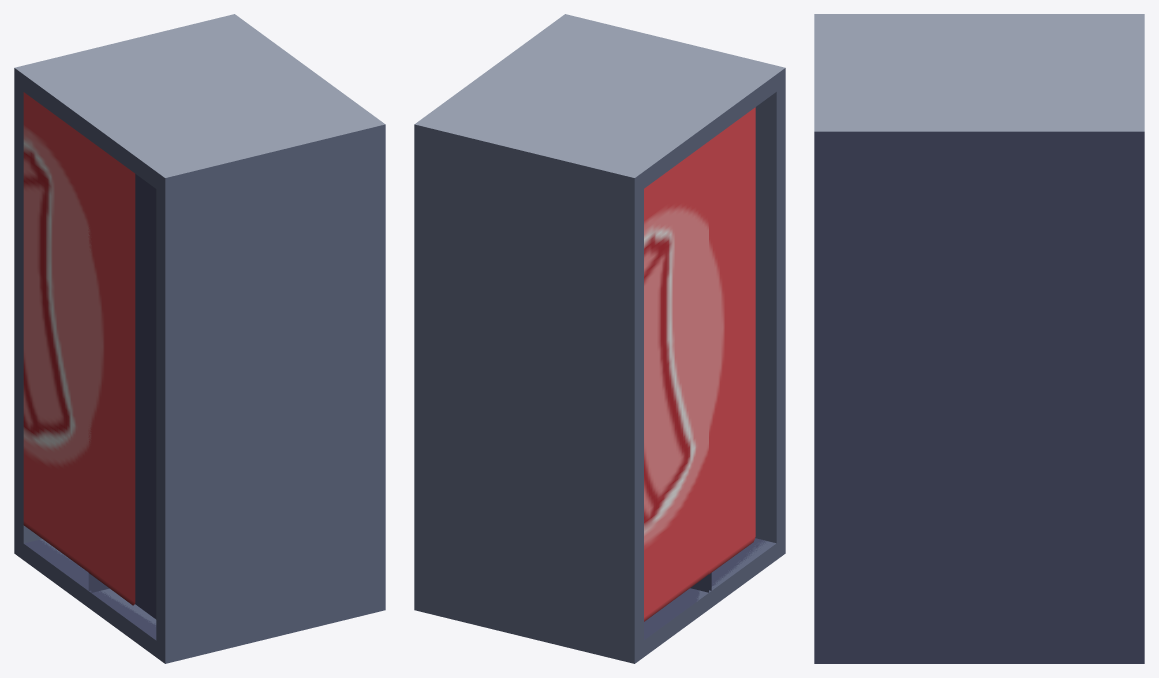
Rendered from f_cabinet.fbx.
The picture shows the model from 3 angles, left to right: view 1: azimuth 30°, elevation 25°; view 2: azimuth 150°, elevation 25°; view 3: azimuth 270°, elevation 25°; orthographic projection. The views are drawn at different scales.
Visible parts, largest first — view 1: Shelves, Shelf_door, Shelf_door.001; view 2: Shelves, Shelf_door.001, Shelf_door; view 3: Shelves.
Boxes of the visible parts, x1,y1,x2,y2 form: Shelves: [14, 14, 385, 663]; Shelf_door: [23, 92, 109, 592]; Shelf_door.001: [88, 140, 156, 626]; Shelves: [414, 14, 785, 663]; Shelf_door.001: [690, 92, 776, 592]; Shelf_door: [644, 141, 711, 621]; Shelves: [814, 14, 1144, 663].
Bounding box in the file's own units: 113 × 94.95 × 200.
